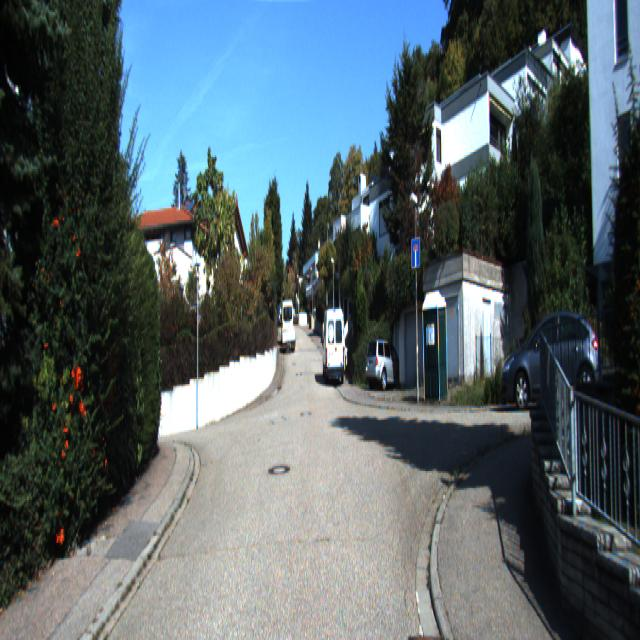Car: (500, 304, 602, 416), (363, 338, 408, 392)
Misc: (281, 328, 296, 351)
Van: (322, 307, 347, 387), (281, 300, 294, 346)
